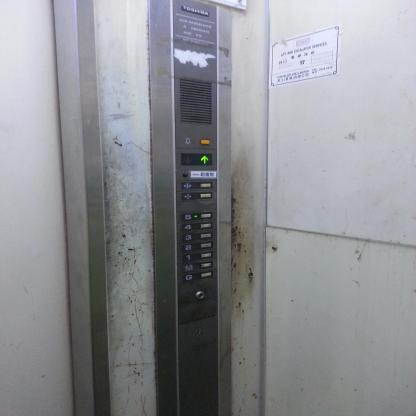1: (181, 251, 213, 262)
2: (181, 241, 213, 252)
3: (181, 231, 213, 242)
4: (181, 221, 213, 231)
5: (182, 211, 212, 221)
G: (181, 270, 214, 282)
M: (181, 260, 213, 273)
alarm: (181, 137, 214, 146)
close: (180, 191, 213, 201)
indicator: (182, 172, 187, 177)
keyhole: (194, 290, 204, 300), (194, 327, 203, 334)
open: (180, 180, 213, 190)
